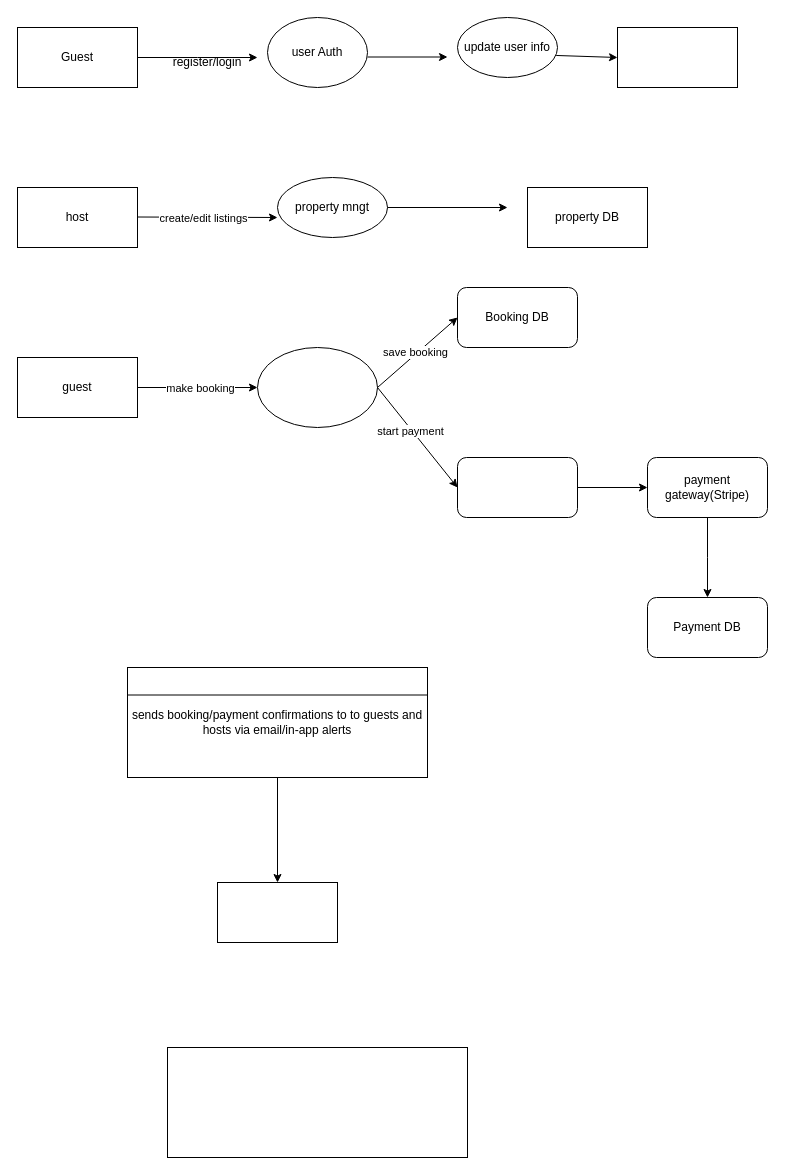
Some shapes in this 785 by 1175 pixel diagram are drawn without their labels. Each missing label, with the centre of its shape:
Admin : Reads/Manages Users, Listings,: point 317,1102
booking mngt: point 317,387
Notif DB: point 277,912
payment process: point 517,487
User DB: point 677,57
